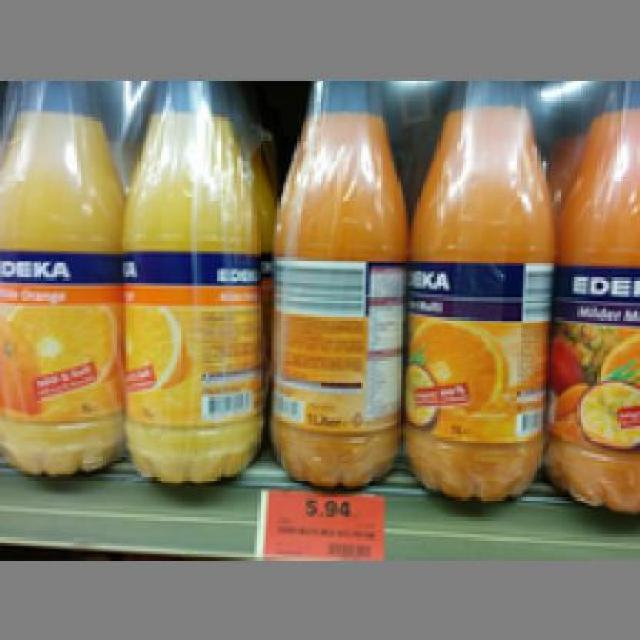Juice: (402, 80, 555, 500), (260, 77, 409, 492), (117, 77, 260, 483), (0, 80, 120, 477)
